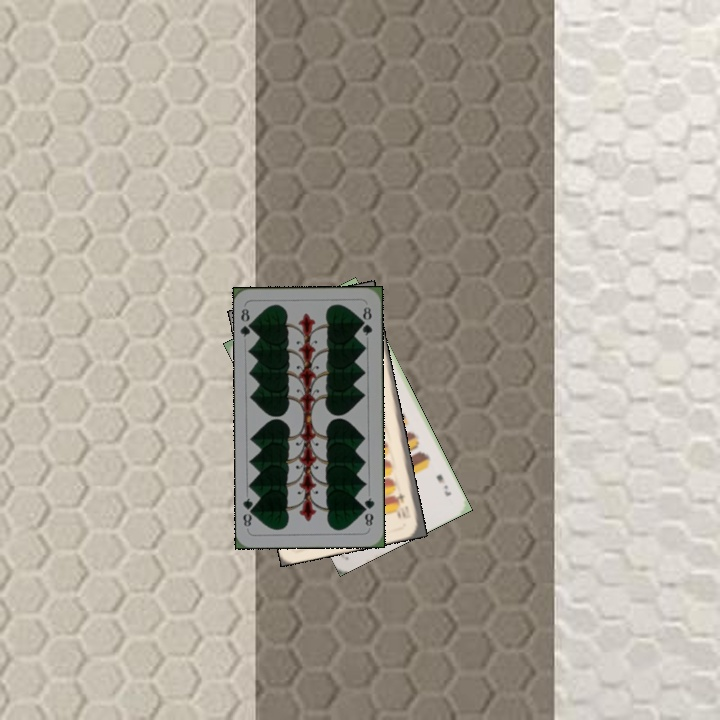E10: (394, 488, 413, 521)
E7: (432, 470, 454, 499)
G8: (237, 305, 257, 339), (359, 493, 377, 529)
